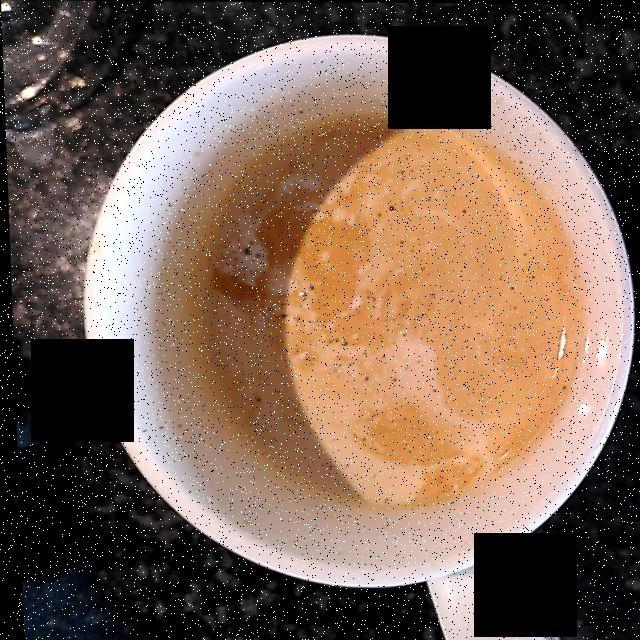espresso: (193, 110, 596, 512)
